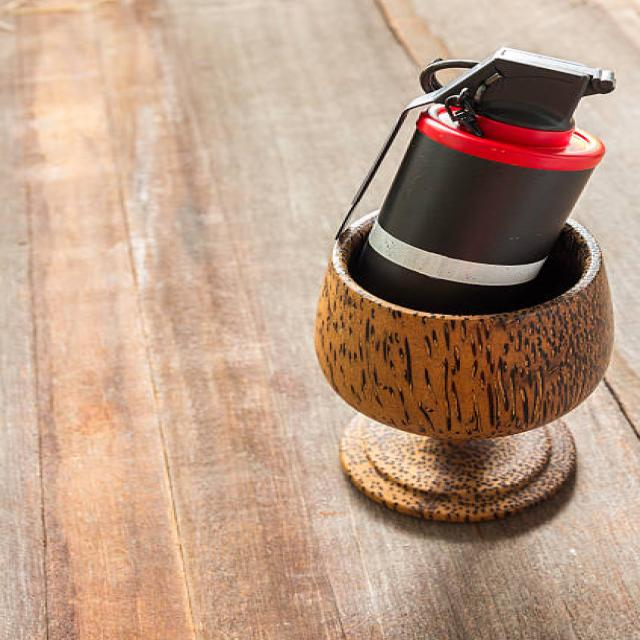grenade: (338, 46, 624, 310)
